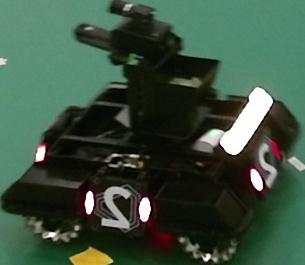armor_2: (85, 189, 152, 223)
back_2: (256, 139, 279, 188)
left_2: (96, 183, 141, 232)
light: (220, 86, 275, 155)
